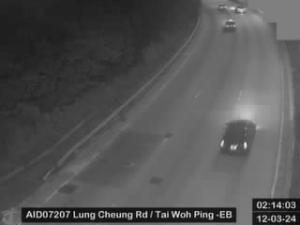vehicle: (218, 120, 258, 154), (226, 20, 236, 29), (236, 7, 246, 14), (219, 4, 227, 10)
